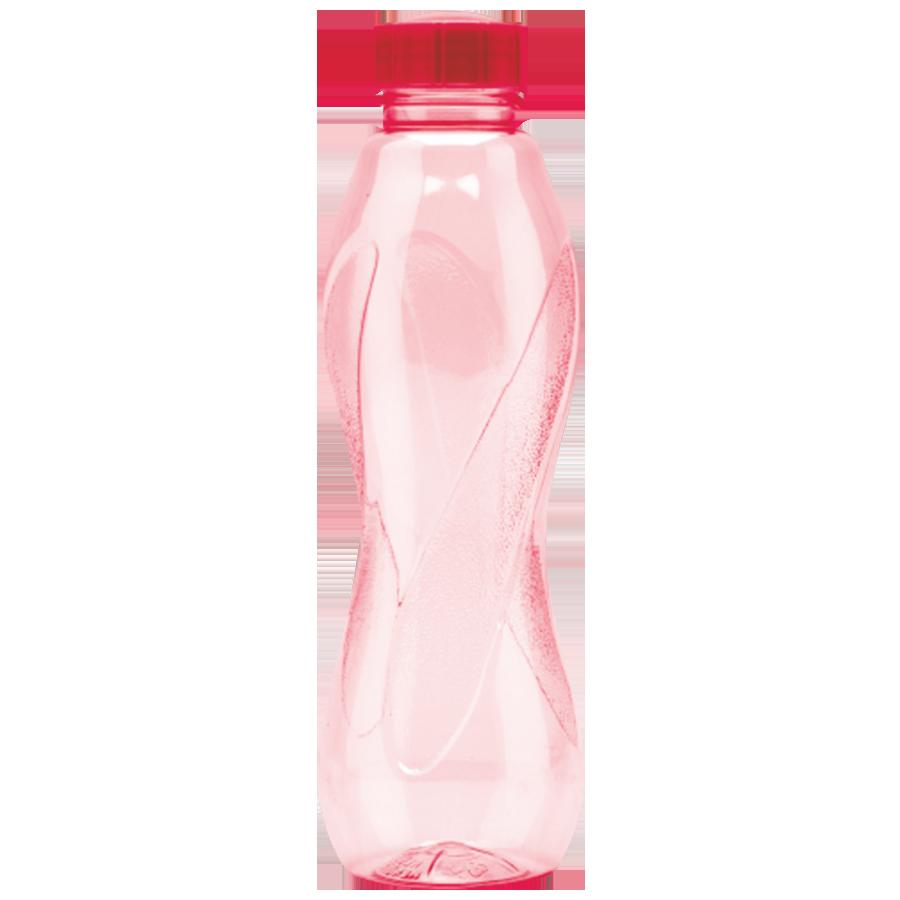PP: (320, 14, 579, 889)
